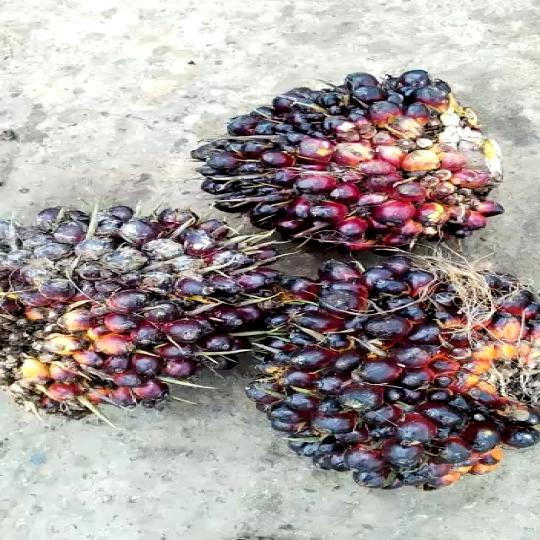kurang masak: (240, 256, 540, 505), (0, 197, 288, 448), (185, 60, 522, 260)
